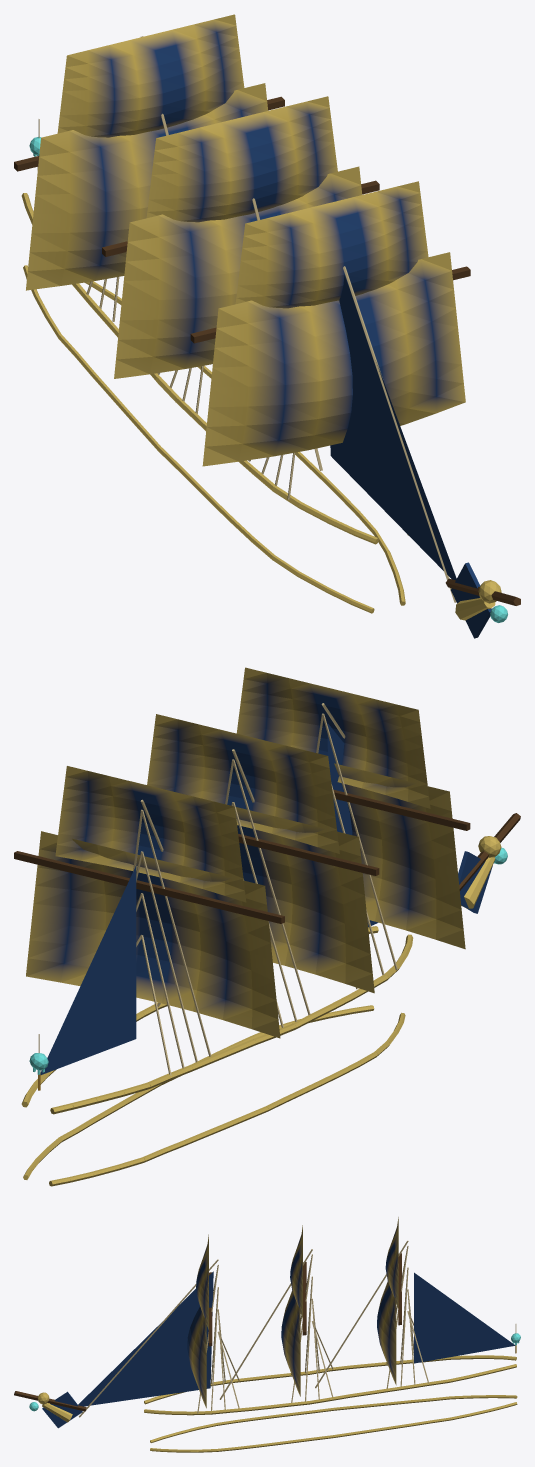
The model's file is upg_galleon_t3.glb.
3 renders of one model, top to bottom at view 1: azimuth 30°, elevation 25°; view 2: azimuth 150°, elevation 25°; view 3: azimuth 270°, elevation 25°, orthographic. The views are drawn at different scales.
Visible parts, largest first — view 1: geometry_0; view 2: geometry_0; view 3: geometry_0.
Boxes of the visible parts, <box> form: geometry_0: <box>14,14,520,638</box>; geometry_0: <box>14,667,520,1186</box>; geometry_0: <box>14,1217,520,1452</box>.
Size of the model in its own units: 10.94 by 15.18 by 33.19.
